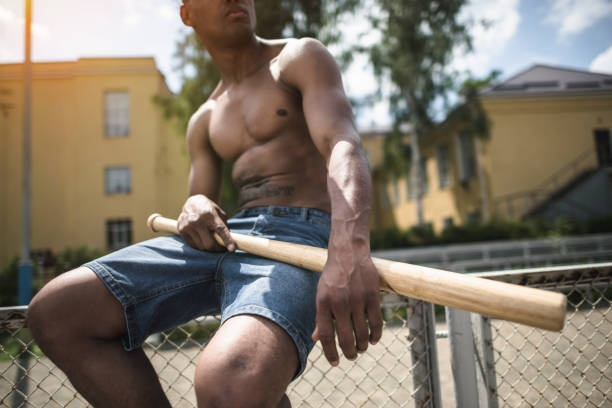bita: (142, 209, 567, 332)
